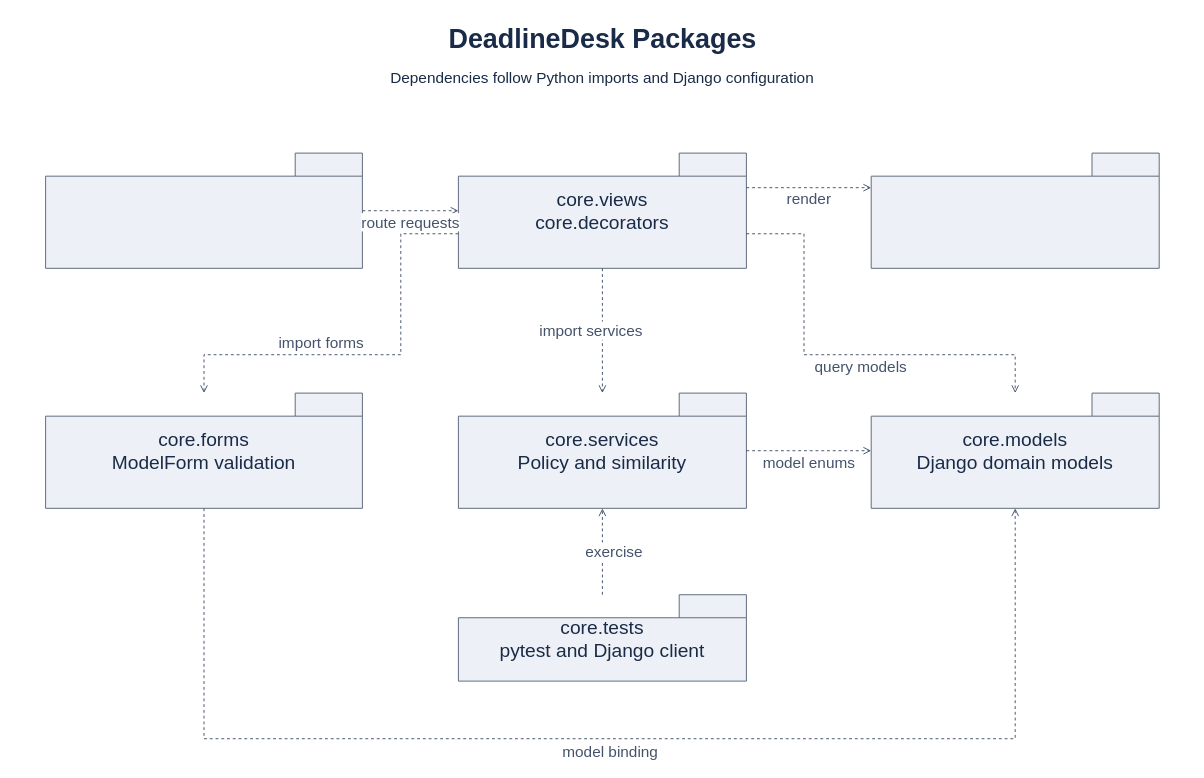
Image size: 1204x778. Some labels were removed from this diagram. The shapes that lost their labels are listed below. From the top down, each one's centre as x and y in pixels, then its label:
At (203,210): "deadlinedesk settings, urls, wsgi".
At (1014,210): "templates / static HTML and CSS".
